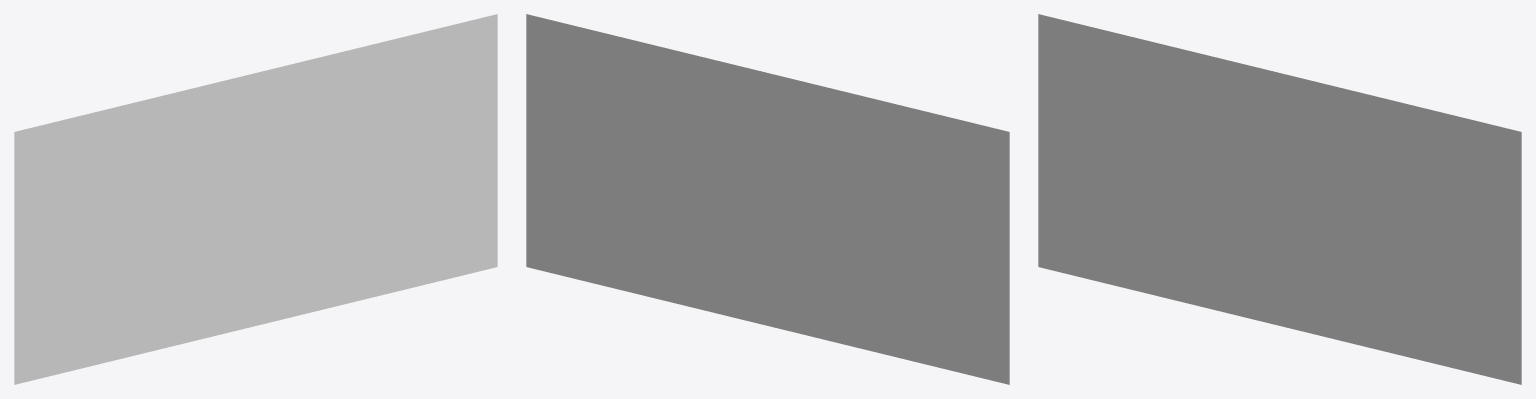
3 renders of one model, left to right at view 1: azimuth 30°, elevation 25°; view 2: azimuth 150°, elevation 25°; view 3: azimuth 330°, elevation 25°, orthographic.
Parts seen in each view (by area): view 1: PG1_text_01_A1; view 2: PG1_text_01_A1; view 3: PG1_text_01_A1.
Part boxes in pixels (<box>): PG1_text_01_A1: <box>14,14,497,384</box>; PG1_text_01_A1: <box>526,14,1009,384</box>; PG1_text_01_A1: <box>1038,14,1521,384</box>.
Bounding box in the file's own units: 45.55 × 22.77 × 5.72e-06.
1 material, 1 textured.
